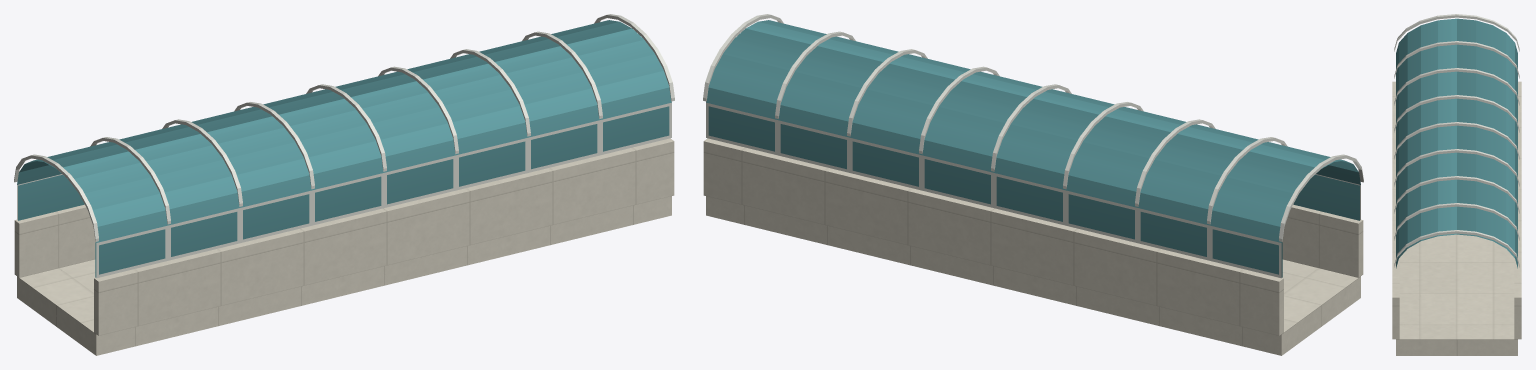
The picture shows the model from 3 angles, left to right: view 1: azimuth 30°, elevation 25°; view 2: azimuth 150°, elevation 25°; view 3: azimuth 270°, elevation 25°; orthographic projection. The views are drawn at different scales.
Visible parts, largest first — view 1: bridge__bridge-glass, bridge-open-underpass__bridge__light-stone, bridge__white-frame; view 2: bridge__bridge-glass, bridge-open-underpass__bridge__light-stone, bridge__white-frame; view 3: bridge__bridge-glass, bridge-open-underpass__bridge__light-stone, bridge__white-frame.
Boxes of the visible parts, x1,y1,x2,y2 form: bridge__bridge-glass: (17, 20, 671, 277); bridge-open-underpass__bridge__light-stone: (14, 138, 674, 355); bridge__white-frame: (14, 14, 674, 278); bridge__bridge-glass: (706, 20, 1360, 277); bridge-open-underpass__bridge__light-stone: (703, 138, 1363, 355); bridge__white-frame: (703, 14, 1363, 278); bridge__bridge-glass: (1396, 18, 1517, 268); bridge-open-underpass__bridge__light-stone: (1392, 81, 1521, 355); bridge__white-frame: (1394, 14, 1519, 267).
Size of the model in its own units: 11.17 by 3 by 2.81.
3 materials, 2 textured.
